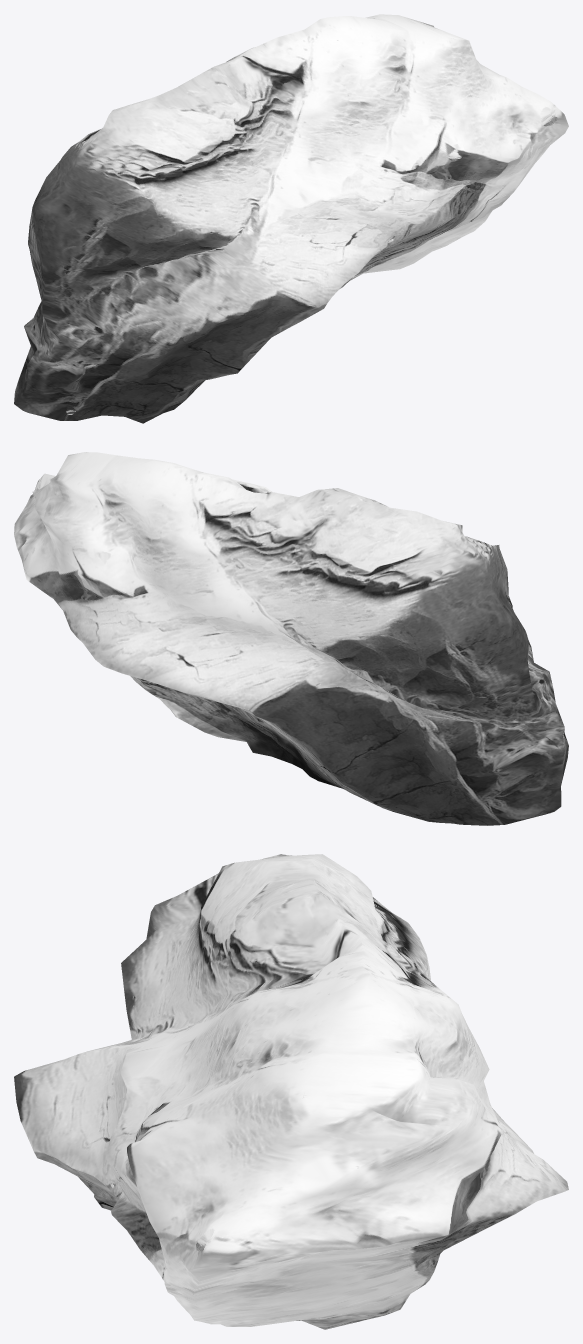
The picture shows the model from 3 angles, top to bottom: view 1: azimuth 30°, elevation 25°; view 2: azimuth 150°, elevation 25°; view 3: azimuth 270°, elevation 25°; orthographic projection. The views are drawn at different scales.
Visible parts, largest first — view 1: Base.003; view 2: Base.003; view 3: Base.003.
Boxes of the visible parts, x1,y1,x2,y2 form: Base.003: [14, 14, 568, 423]; Base.003: [14, 452, 568, 825]; Base.003: [14, 854, 568, 1329].
Size of the model in its own units: 1.21 by 0.6884 by 0.752.
1 material, 1 textured.
